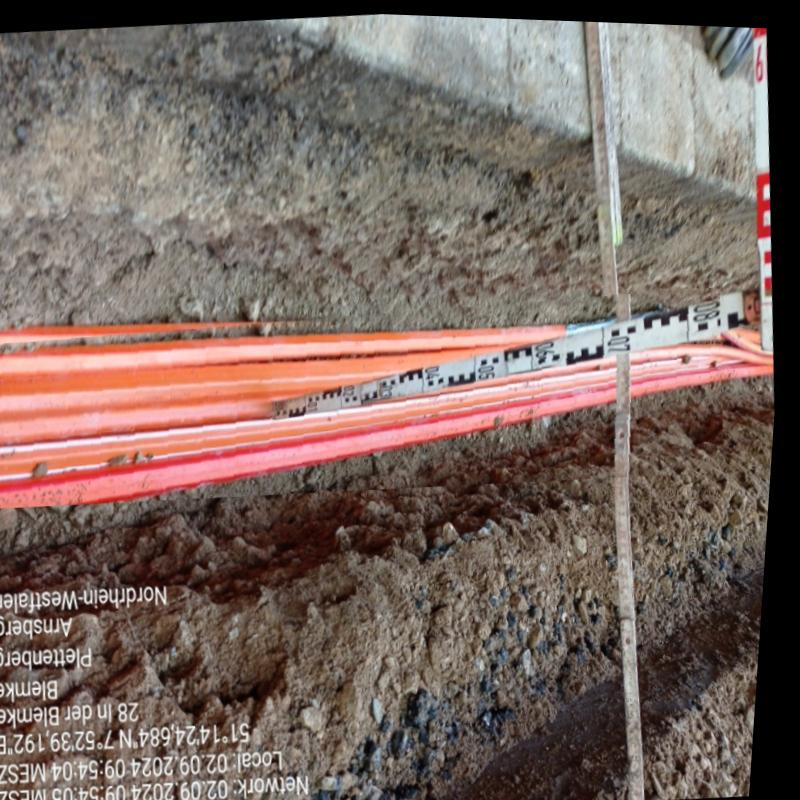Orang-Speednetrohrchen: (0, 286, 727, 509)
